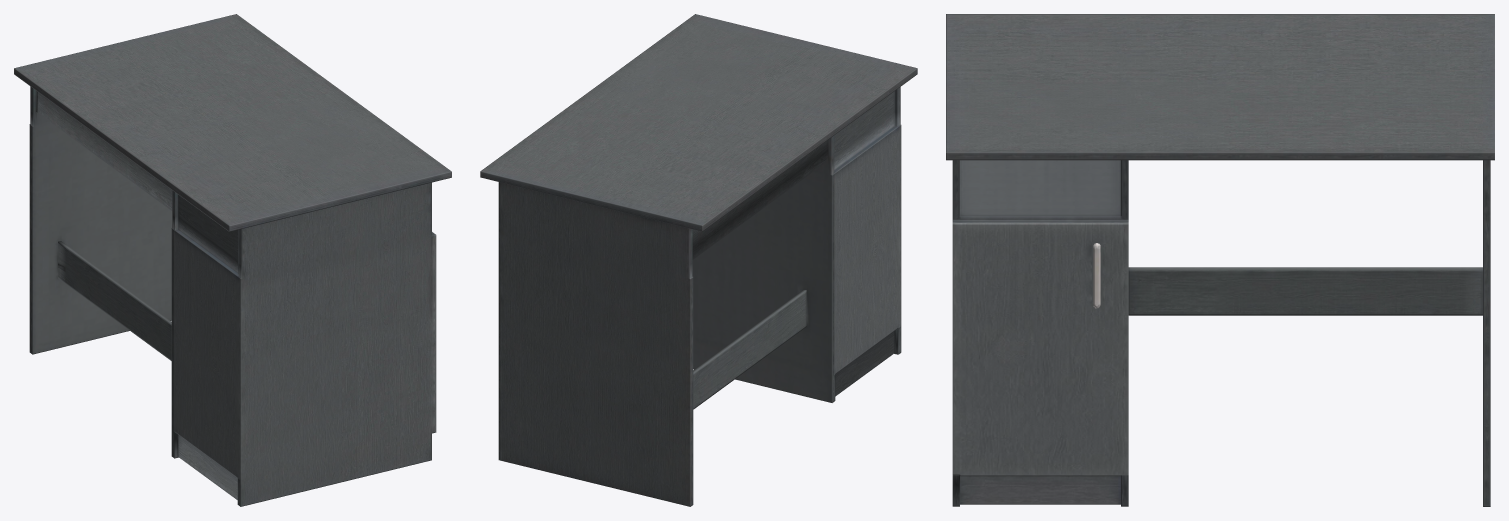
The model's file is tripo_convert_b884810e-26f6-441d-9fc2-0aeedf5214c6.fbx.
3 renders of one model, left to right at view 1: azimuth 30°, elevation 25°; view 2: azimuth 150°, elevation 25°; view 3: azimuth 270°, elevation 25°, orthographic. The views are drawn at different scales.
Parts seen in each view (by area): view 1: tripo_node_b884810e; view 2: tripo_node_b884810e; view 3: tripo_node_b884810e.
Boxes of the visible parts, x1,y1,x2,y2 form: tripo_node_b884810e: [14, 14, 451, 506]; tripo_node_b884810e: [480, 14, 917, 506]; tripo_node_b884810e: [946, 14, 1494, 506].
Bounding box in the file's own units: 0.5969 × 0.7339 × 1.
